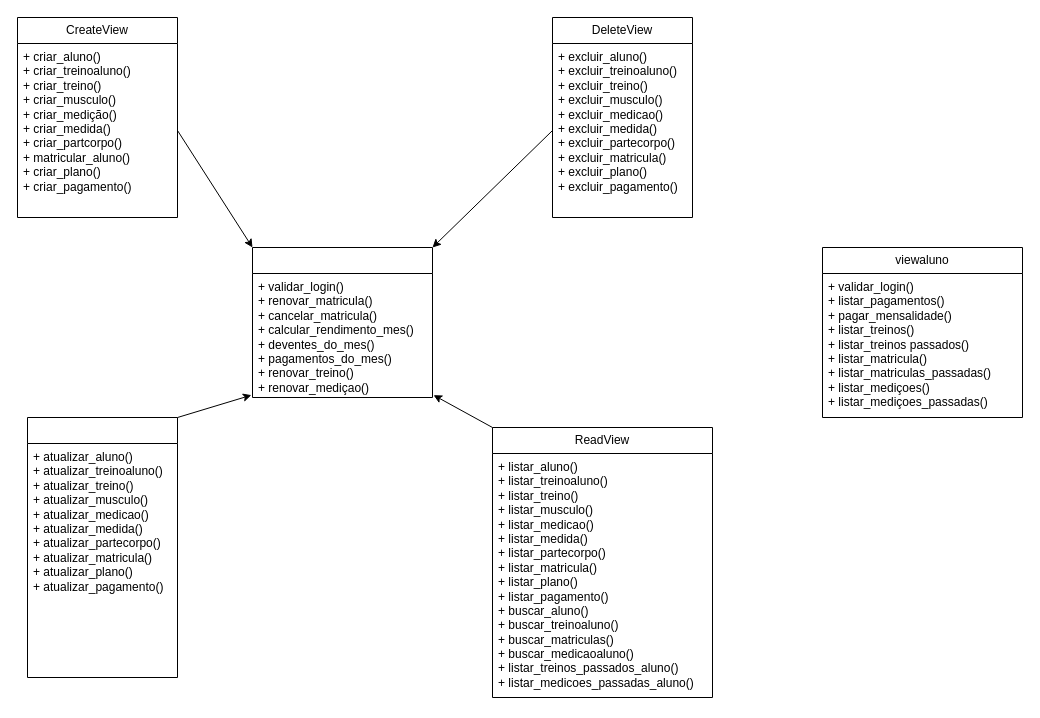
The diagram is 1040 pixels wide and 718 high, and some of its shapes have lost their labels. The shapes that lost their labels are listed below. From the top down, each one's box as (x1, y1, x2, y2) in pixels, then its label:
(252, 246, 432, 398): View
(26, 416, 178, 678): UpdateView
